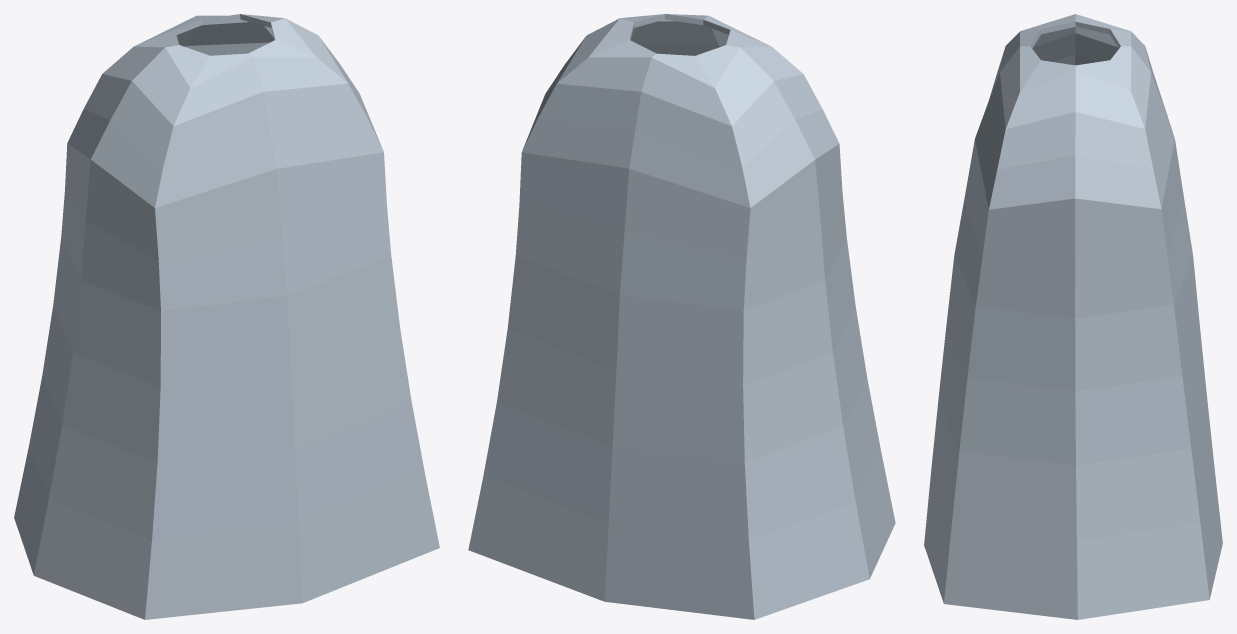
File: DanteCapa2.fbx
3 renders of one model, left to right at view 1: azimuth 30°, elevation 25°; view 2: azimuth 150°, elevation 25°; view 3: azimuth 270°, elevation 25°, orthographic. The views are drawn at different scales.
Visible parts, largest first — view 1: Plane; view 2: Plane; view 3: Plane.
Boxes of the visible parts, x1,y1,x2,y2 form: Plane: (14, 14, 439, 619); Plane: (468, 14, 895, 619); Plane: (924, 14, 1222, 619).
Bounding box in the file's own units: 0.8894 × 1.15 × 0.6186.
